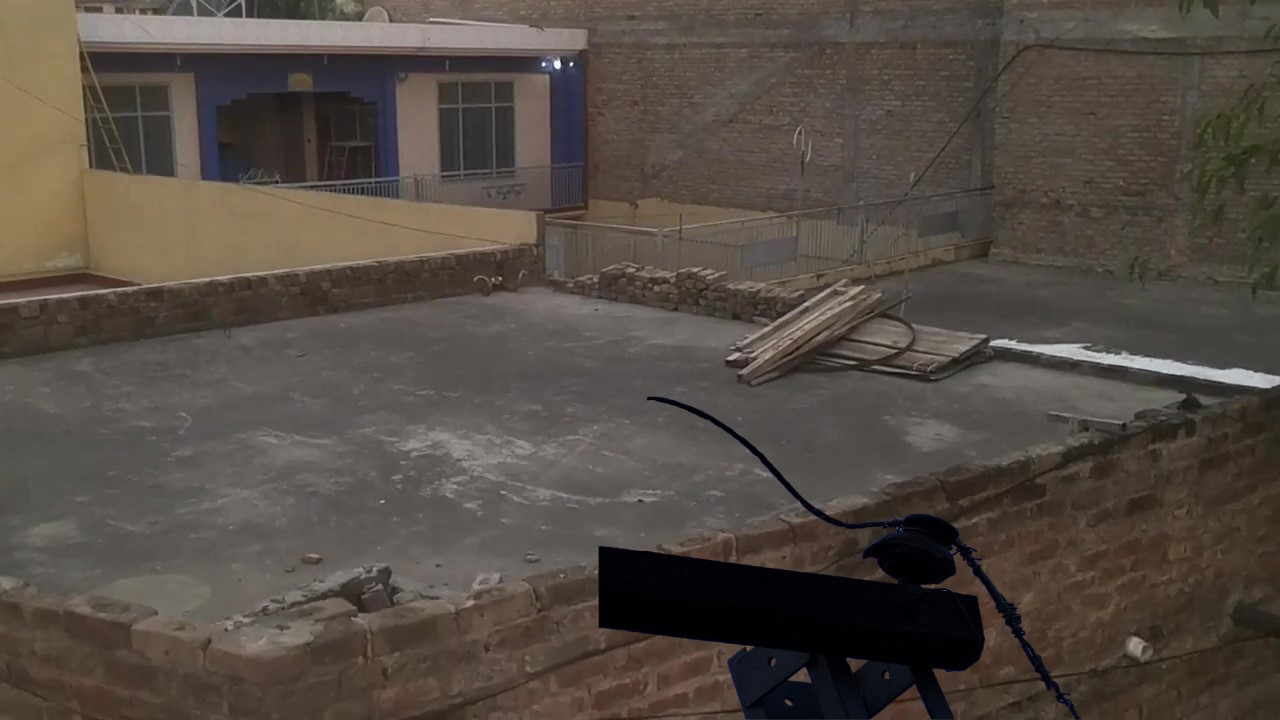defect_pin: (859, 511, 967, 593)
